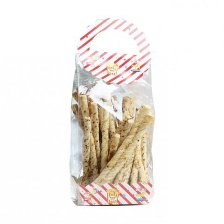snack: (62, 9, 163, 212)
